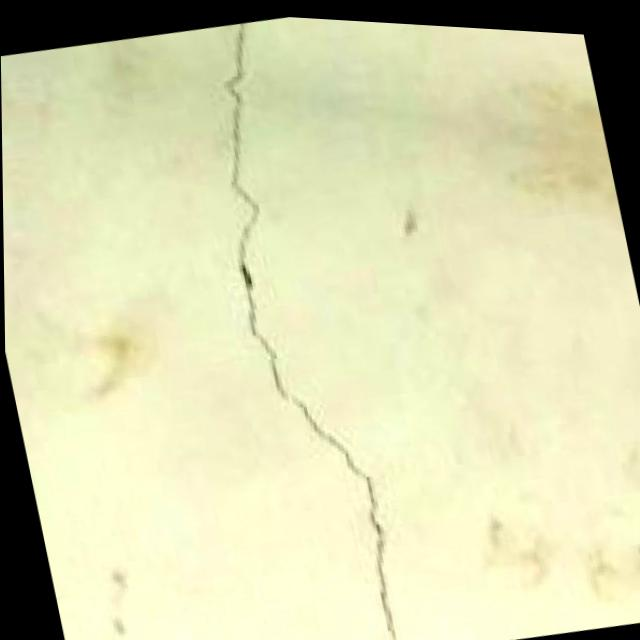Crack: (143, 7, 443, 640)
